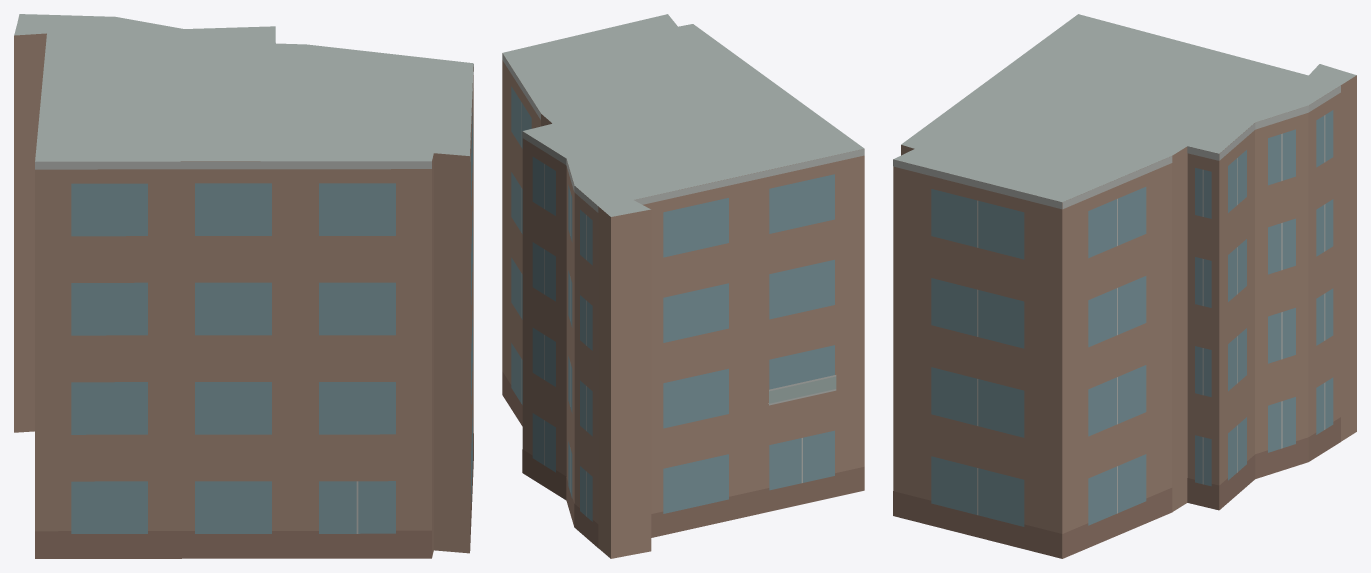
Rendered from survey-upis-32654504.glb.
3 views of the same model, side by side, from view 1: azimuth 30°, elevation 25°; view 2: azimuth 150°, elevation 25°; view 3: azimuth 270°, elevation 25° (orthographic). The views are drawn at different scales.
Parts seen in each view (by area): view 1: survey-upis-32654504.tmp; view 2: survey-upis-32654504.tmp; view 3: survey-upis-32654504.tmp.
Boxes of the visible parts, box(x1,y1,x2,y2) form: survey-upis-32654504.tmp: box(14, 14, 473, 558); survey-upis-32654504.tmp: box(502, 14, 864, 558); survey-upis-32654504.tmp: box(893, 14, 1356, 558).
Bounding box in the file's own units: 13.82 × 12.2 × 14.38.
